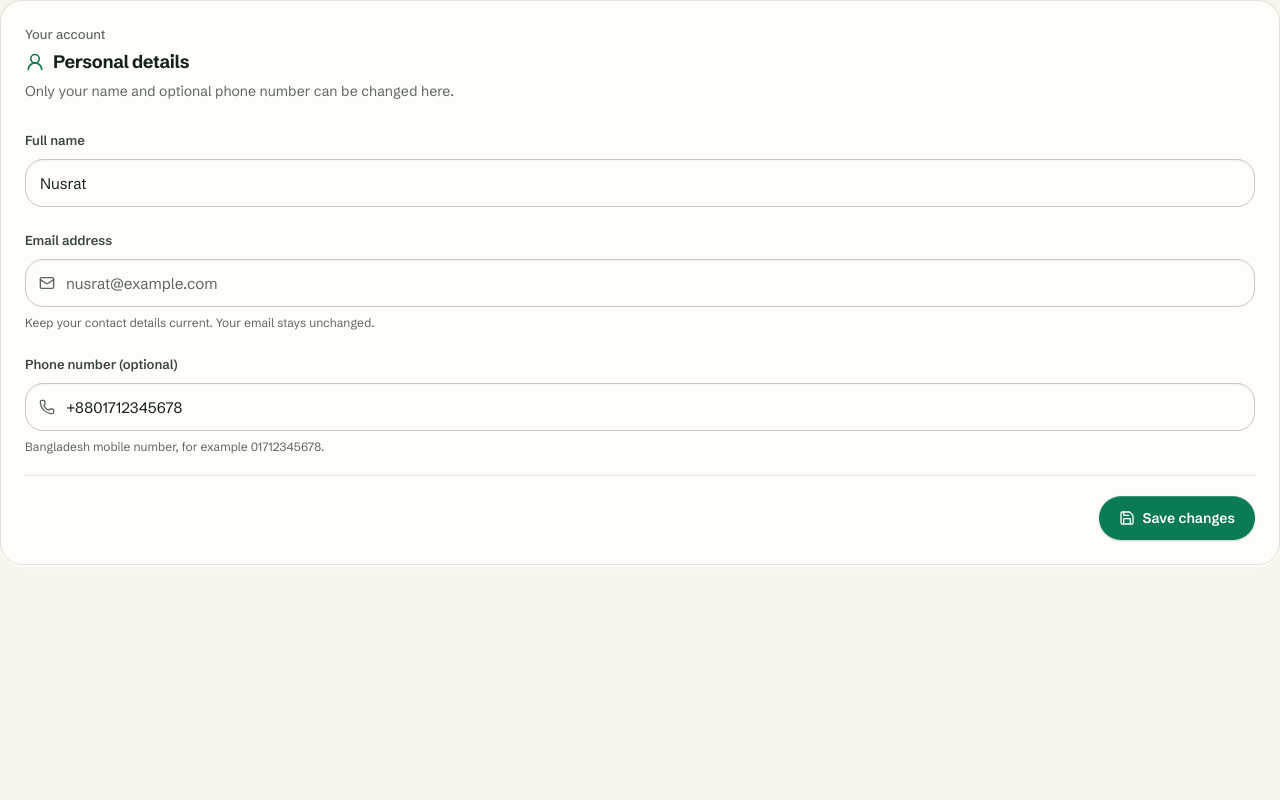
Test: profile screens › saves the name and phone through the self-profile endpoint
Replace the text in the field labelled "Full name" with "Nusrat Ahmed" at (640, 183), box [25,159,1255,207]
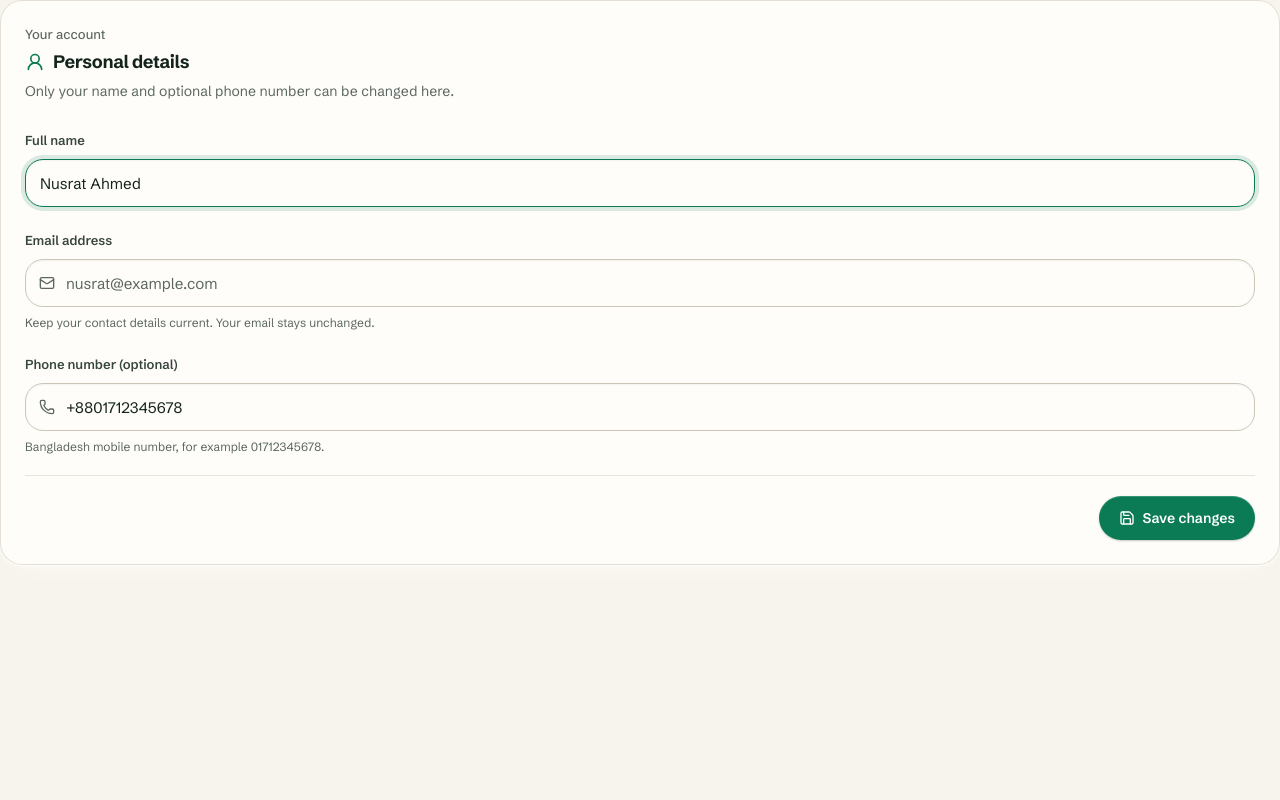
Replace the text in the field labelled "Phone number (optional)" with "01812345678" at (640, 407), box [25,383,1255,431]
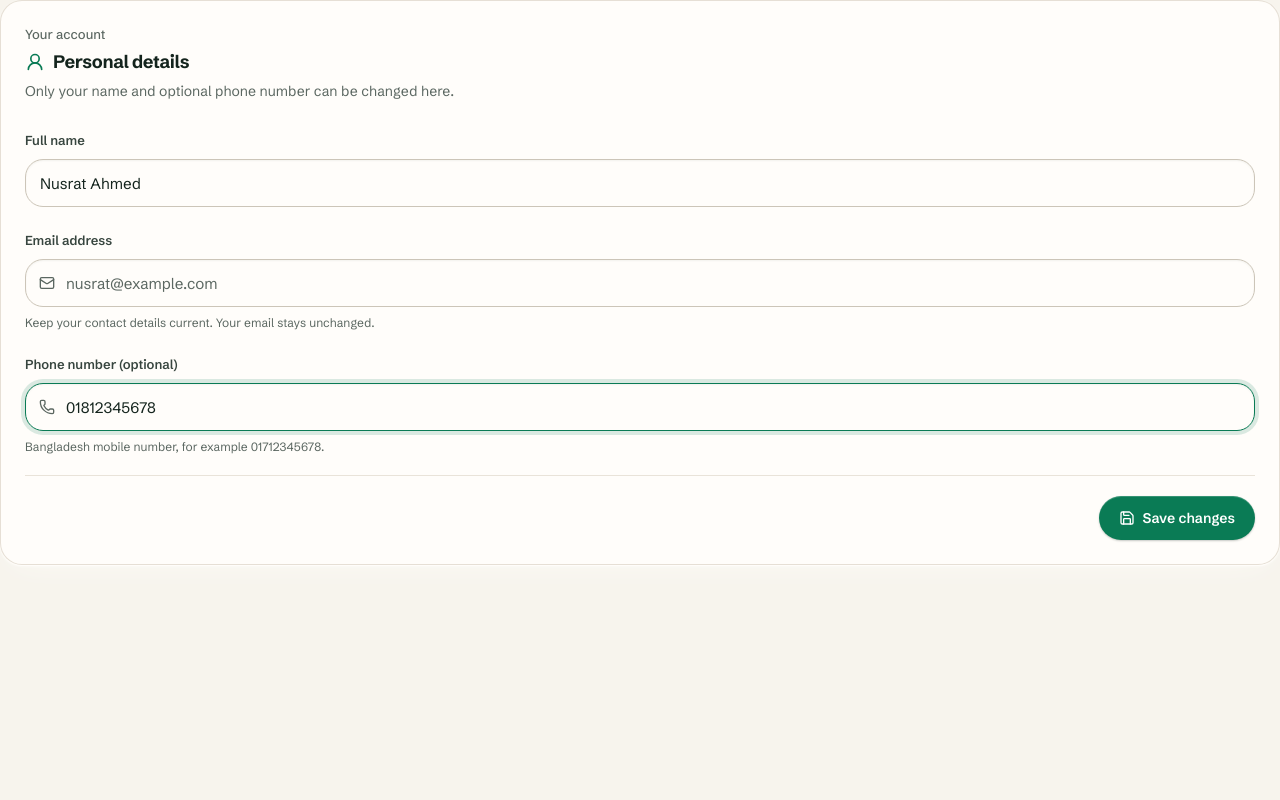
Click the button "Save changes".
click(1177, 518)  # box [1098,496,1255,540]
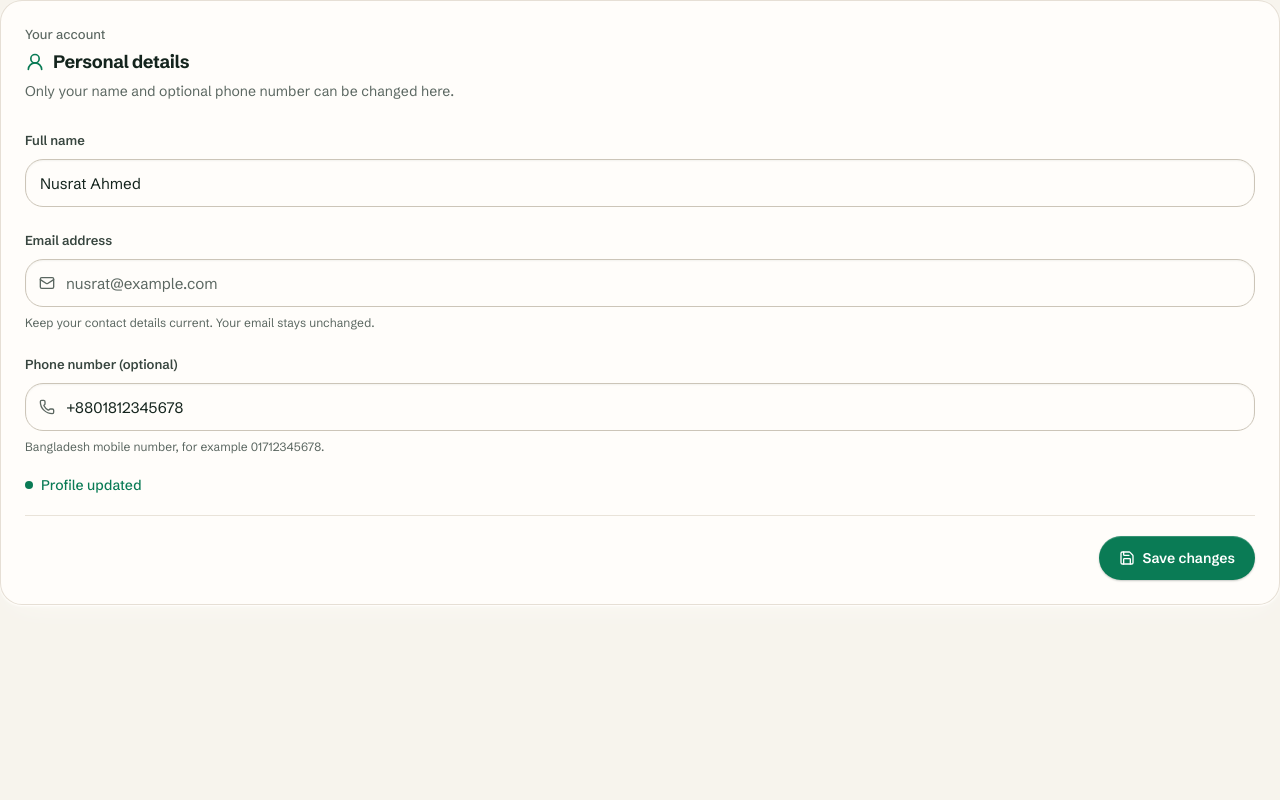
Expected: the message reads "Profile updated", [41,476,142,494]
